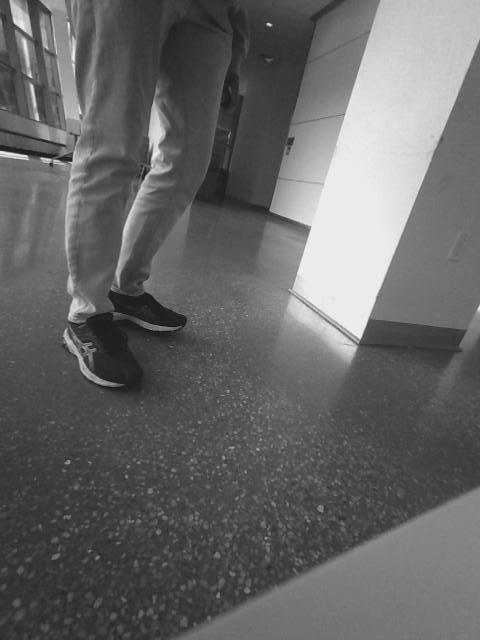ball: (258, 293, 340, 375)
